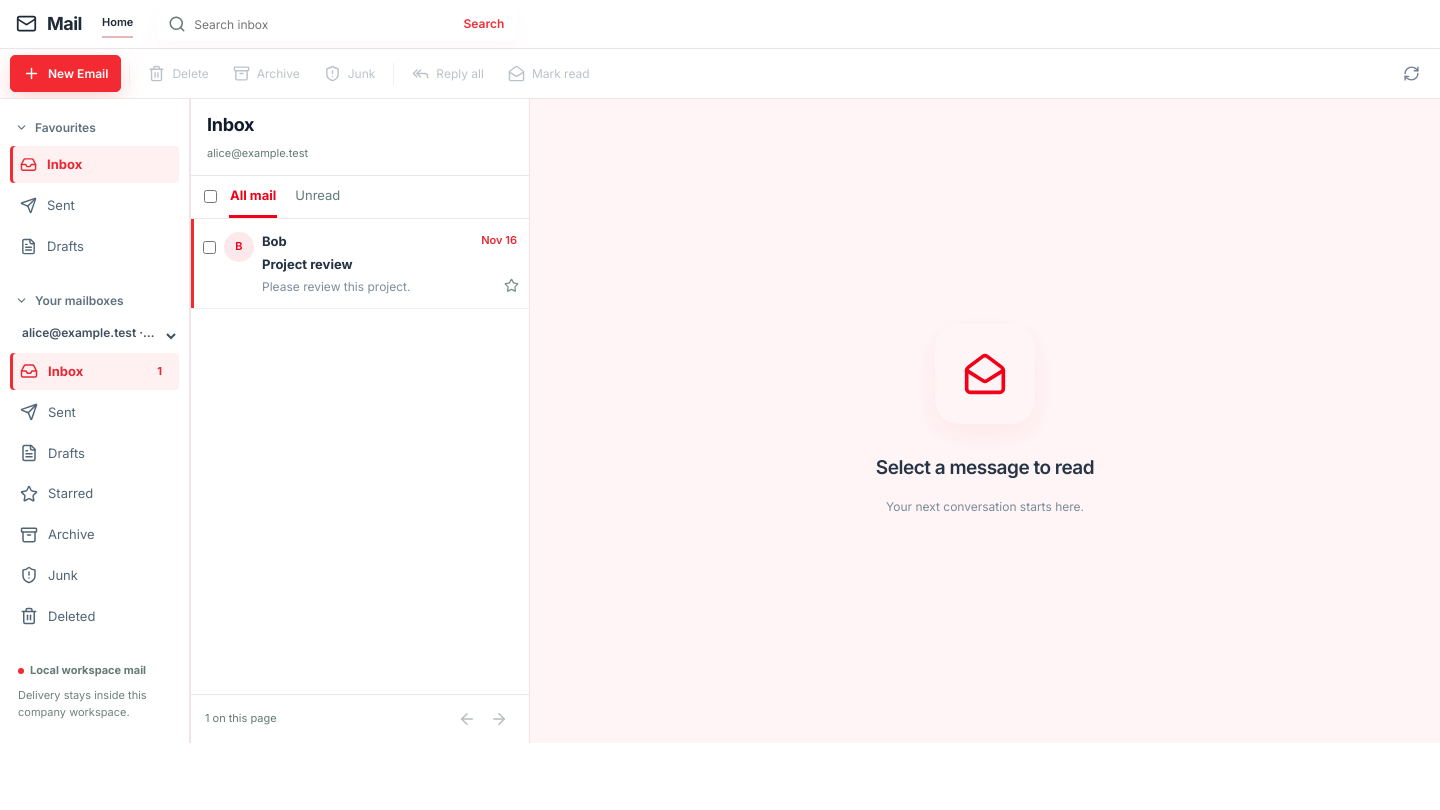
Email inbox interactions › clears old account message state when switching mailboxes
The width and height of the screenshot is (1440, 810).
Click the button "Bob Nov 16 Project review Please review this project." at (390, 263), box [262,231,517,296]
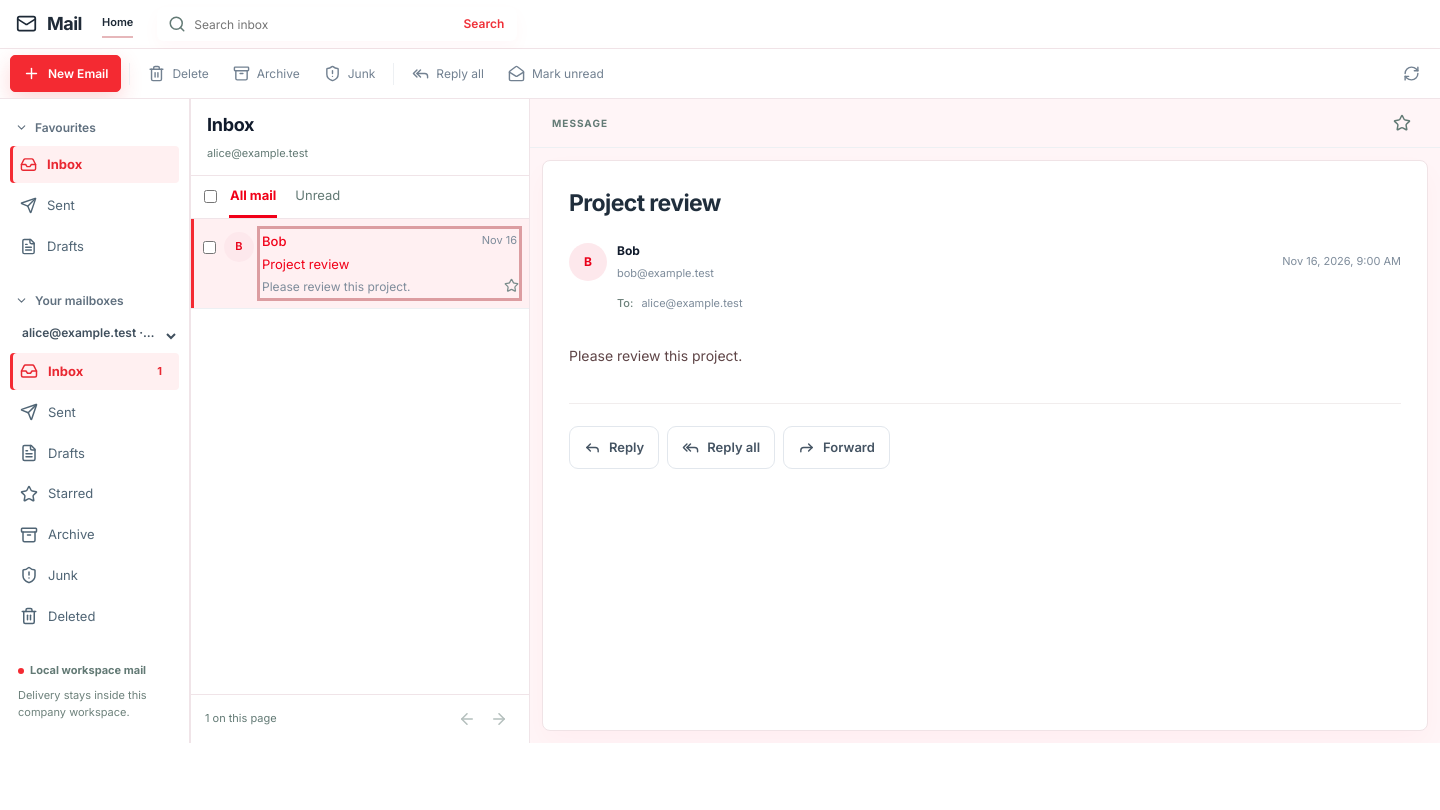
Expected: the heading "Project review" is shown, [569,189,721,217]
Select "other@example.test · local" in the dropdown named "MAILBOX" at (94, 336), box [10,319,179,353]
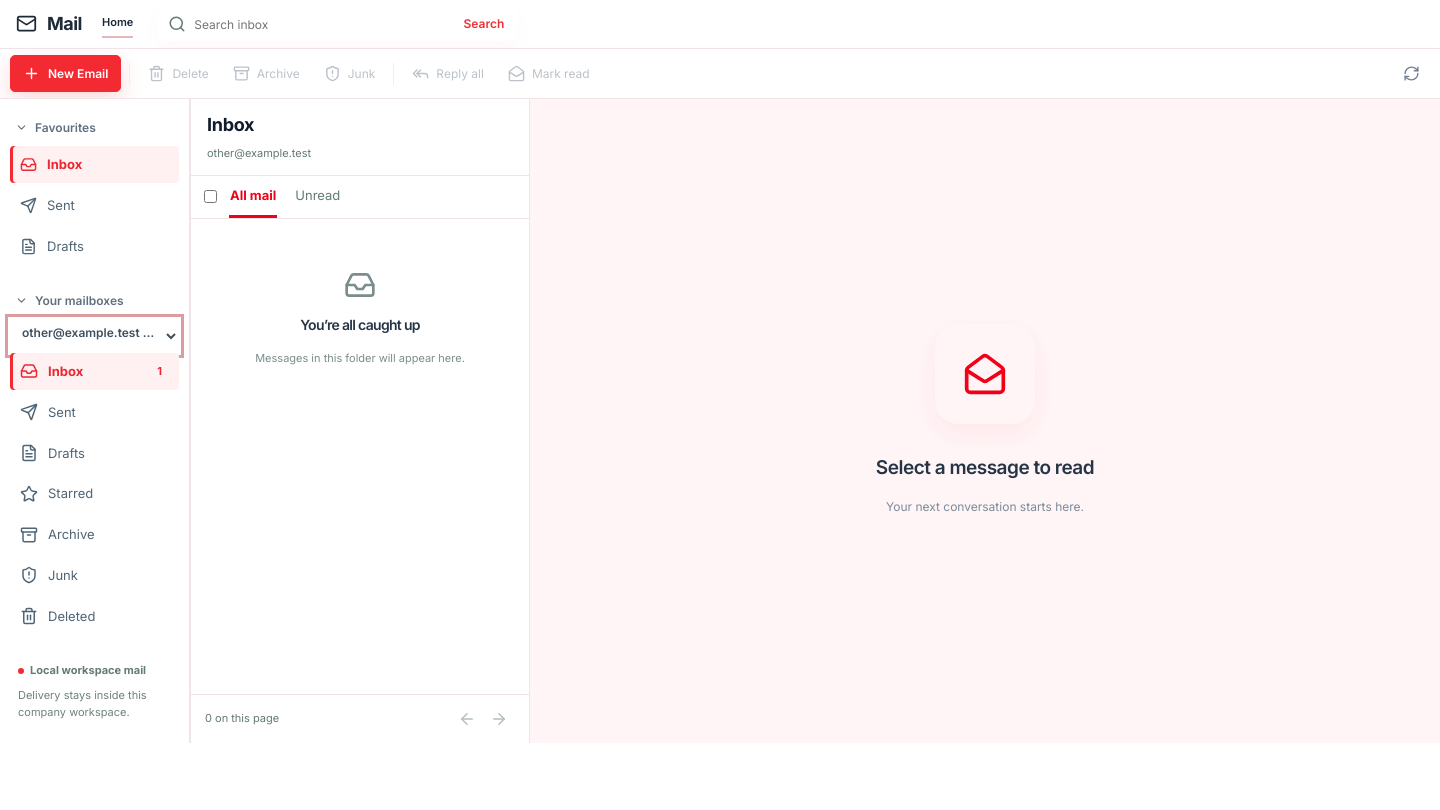
Expected: the button "Project review" is gone
Expected: the heading "Select a message to read" is shown, [876,453,1094,483]
